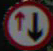Two way: (12, 4, 49, 42)
